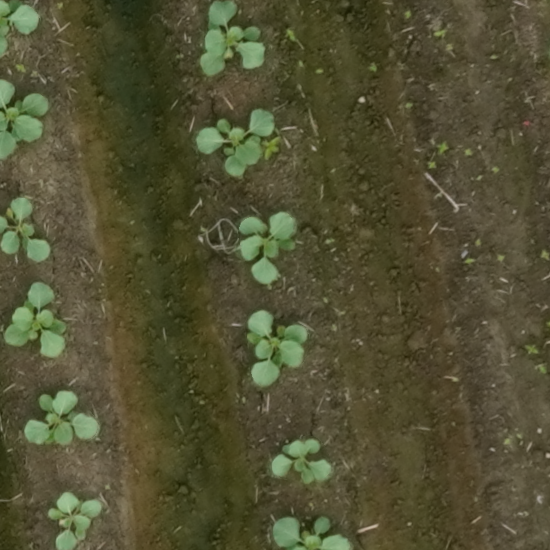Cabbage: (195, 109, 275, 177), (200, 0, 265, 76), (3, 281, 66, 358), (247, 311, 308, 387), (238, 211, 298, 285), (24, 390, 99, 447), (0, 79, 47, 162), (1, 198, 51, 263), (49, 491, 101, 550), (273, 515, 351, 550), (272, 439, 330, 483), (0, 1, 39, 56)
